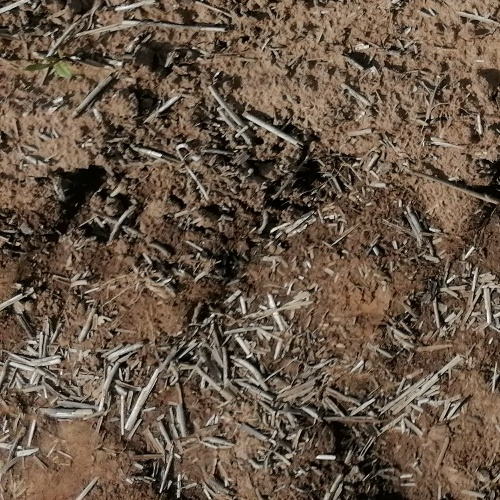beet: (26, 55, 73, 79)
